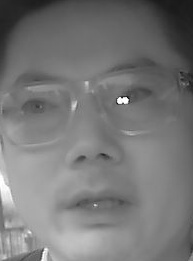eye: (16, 94, 58, 120)
glass: (95, 69, 175, 132), (1, 83, 73, 145)
mouth: (65, 183, 143, 231)
